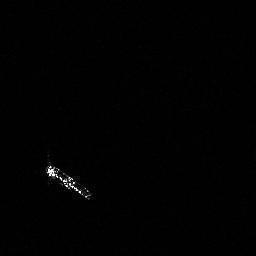ship: (41, 160, 94, 202)
